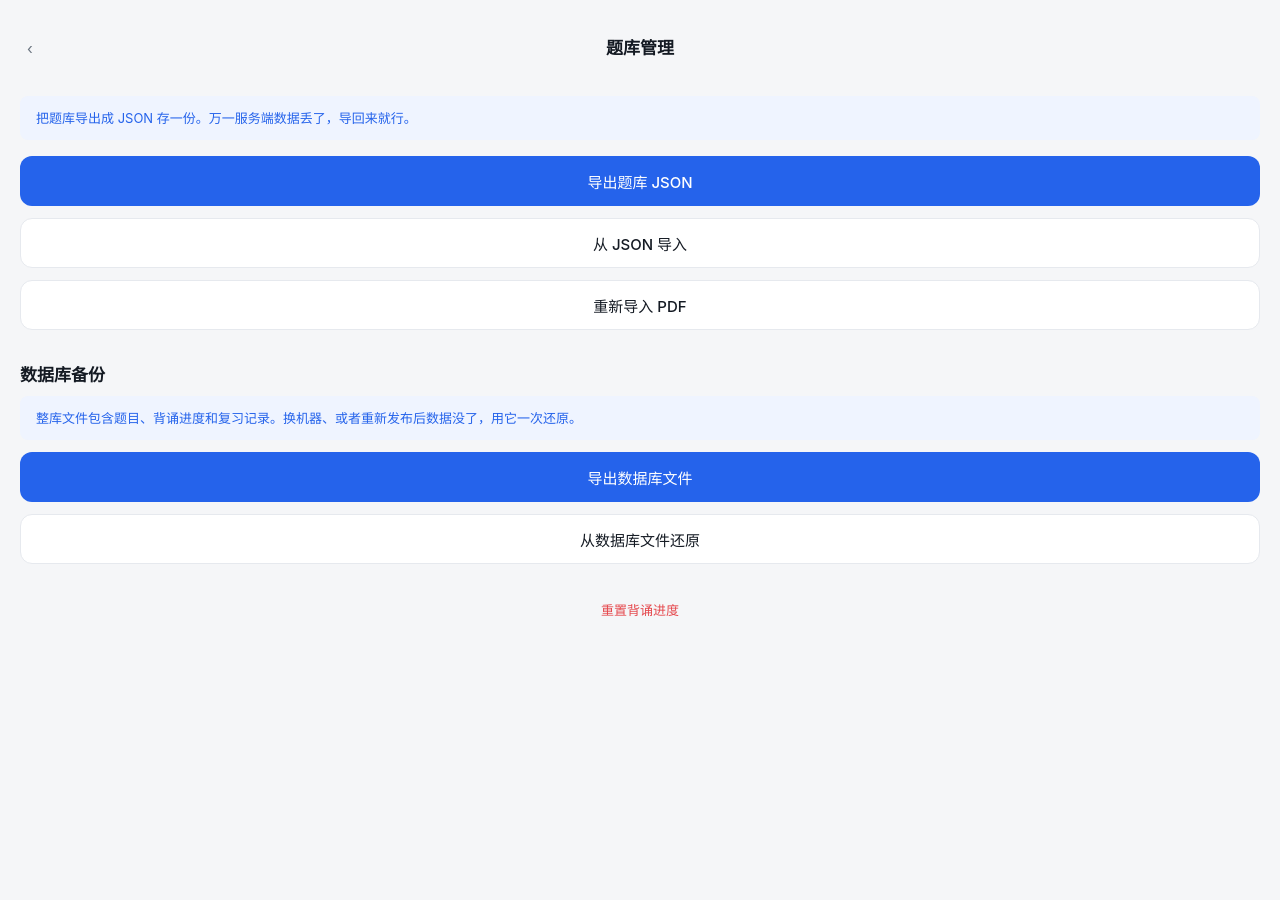
Test: Bank（导出 / 导入 JSON 兜底） › 题库为空时导出要给出提示，而不是导出一个空文件
The width and height of the screenshot is (1280, 900).
Step 1. Click the button "导出题库 JSON" → (640, 181), box x1=20 y1=156 x2=1260 y2=206
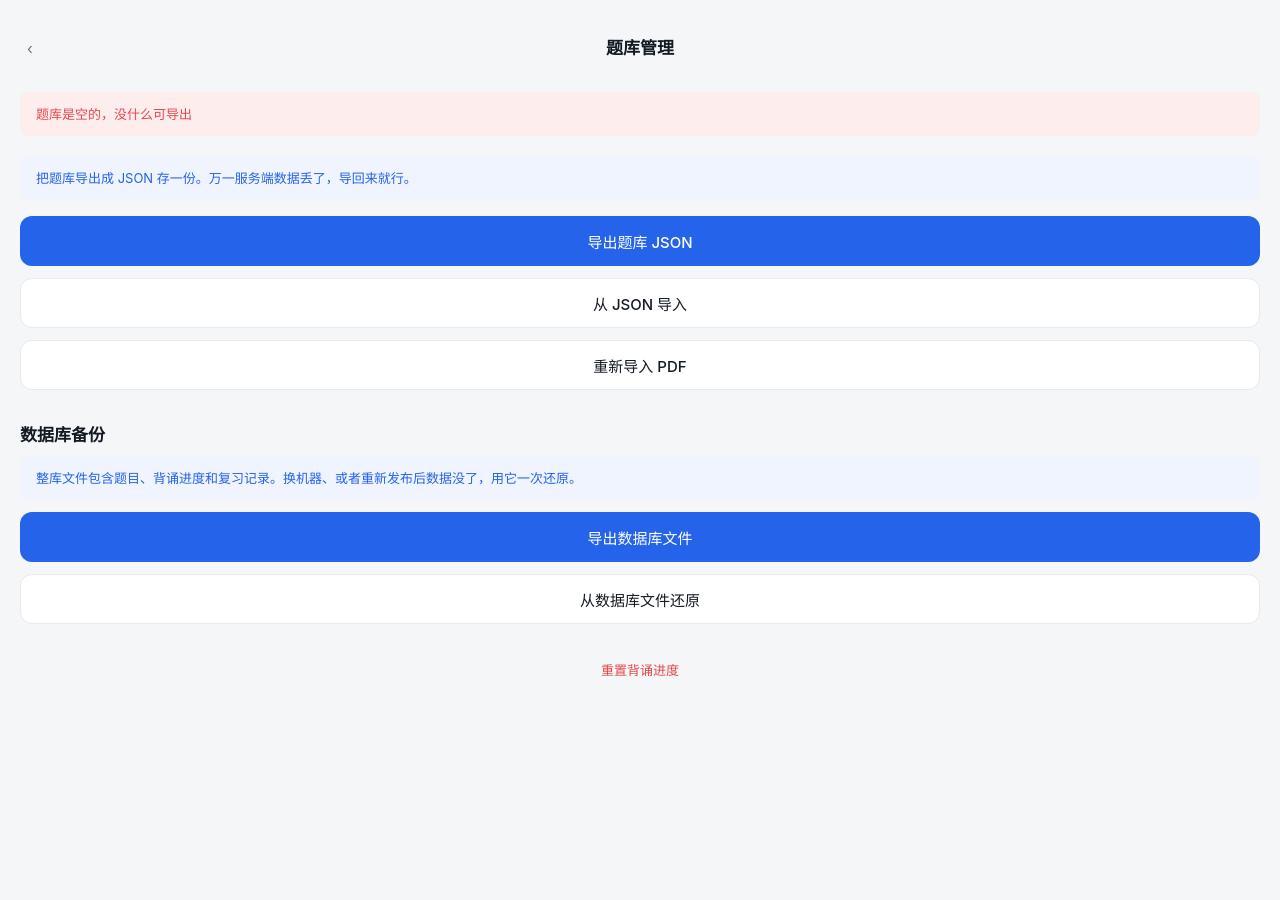
Expected: the message shows "题库是空的", x1=36 y1=106 x2=192 y2=122
